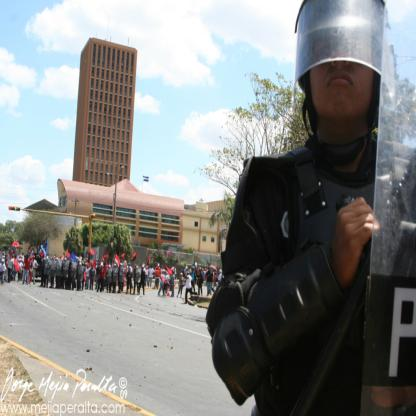Helmet: (296, 5, 385, 123)
